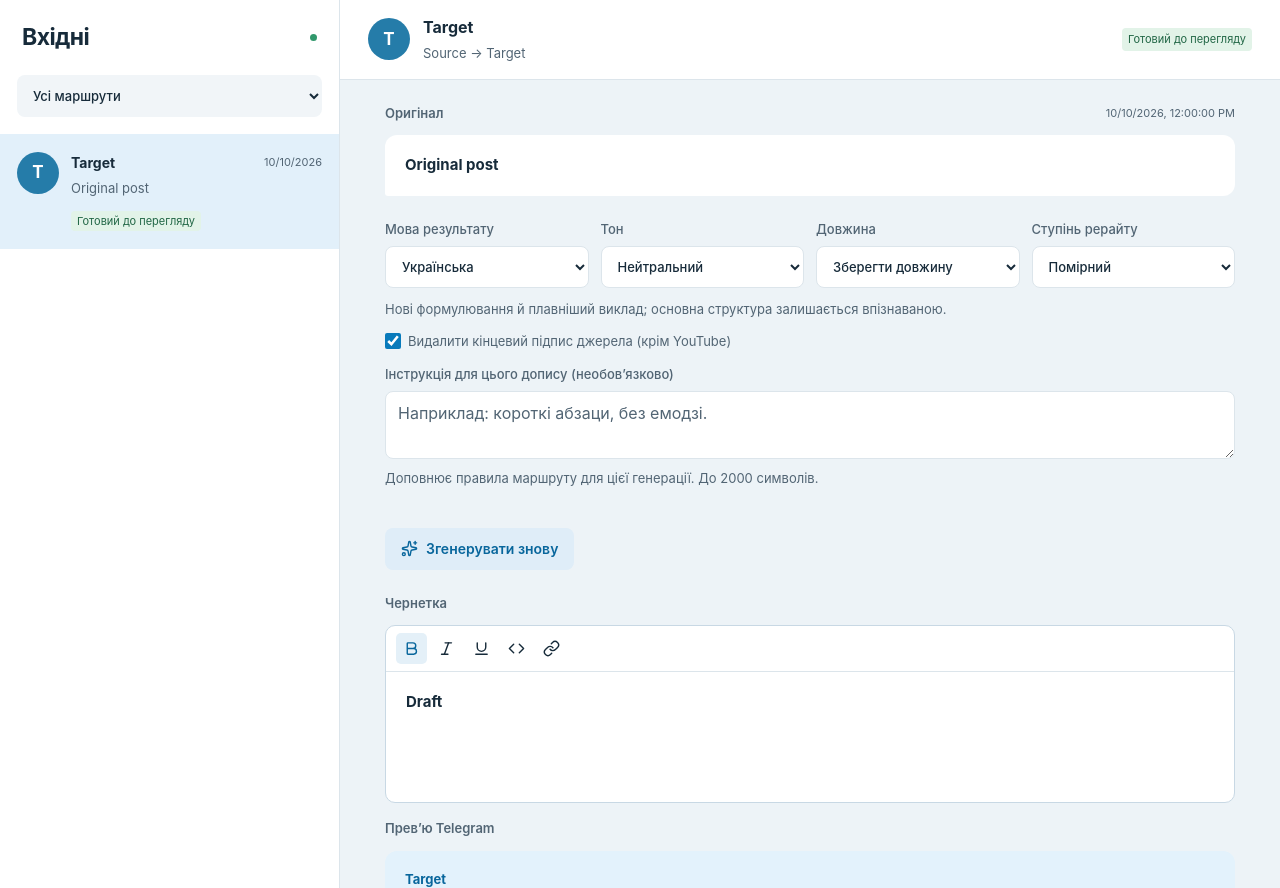
it: AI thinking feedback › clears thinking feedback if starting generation fails
The width and height of the screenshot is (1280, 888).
Click the button "Згенерувати знову" at (480, 549), box [385,528,574,570]
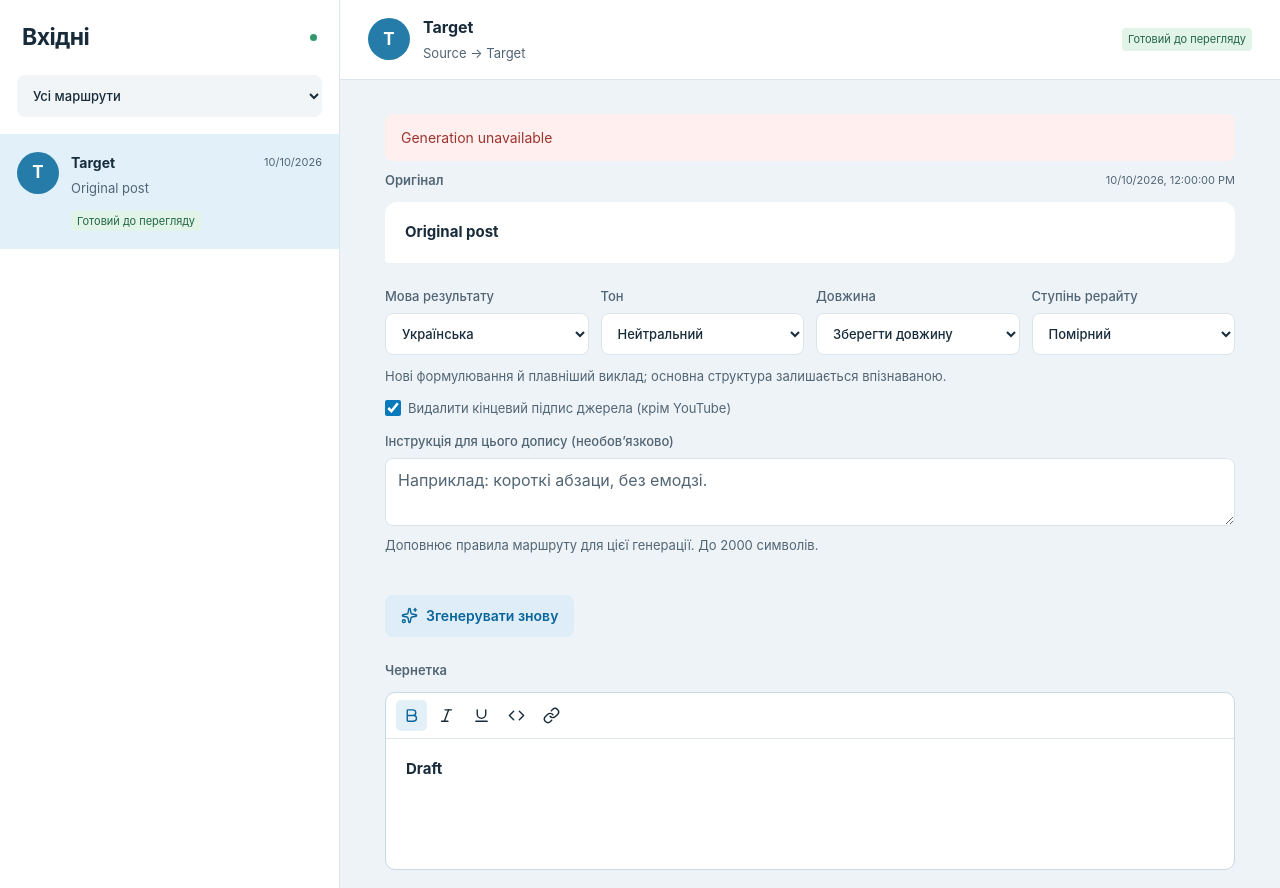
Expected: the button "Згенерувати знову" is enabled, [385,595,574,637]
Now the text "Generation unavailable" is shown, box [385,114,1235,160]
